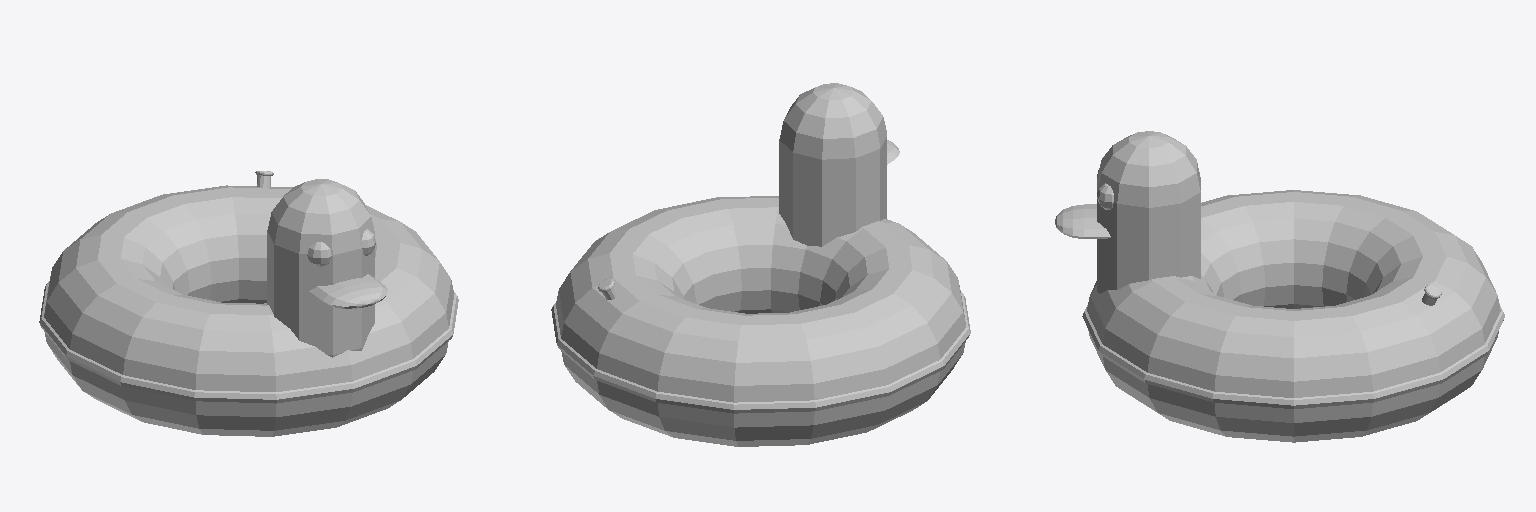
Rendered from Canard.obj.
3 views of the same model, side by side, from view 1: azimuth 30°, elevation 25°; view 2: azimuth 150°, elevation 25°; view 3: azimuth 270°, elevation 25° (orthographic).
Visible parts, largest first — view 1: Connect; view 2: Connect; view 3: Connect.
Boxes of the visible parts, x1,y1,x2,y2 form: Connect: [39, 171, 458, 436]; Connect: [551, 83, 970, 446]; Connect: [1055, 131, 1504, 442].
Bounding box in the file's own units: 600 × 376 × 639.